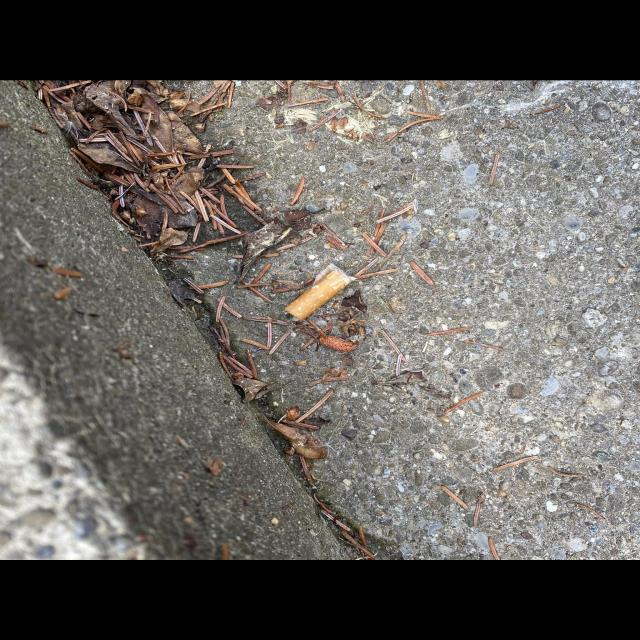other waste: (284, 262, 358, 322)
